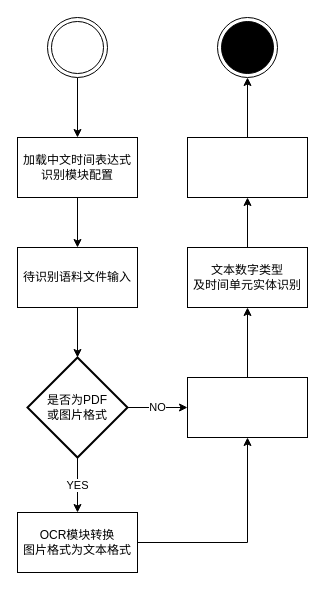
Image size: 325x590. Some labels were removed from this diagram. The centre of each missing label's shape, as x and y in pixels:
封装实体为 特殊数据结构: the point at 247,167
文本预处理,格式化 符号及特殊编码: the point at 247,407
